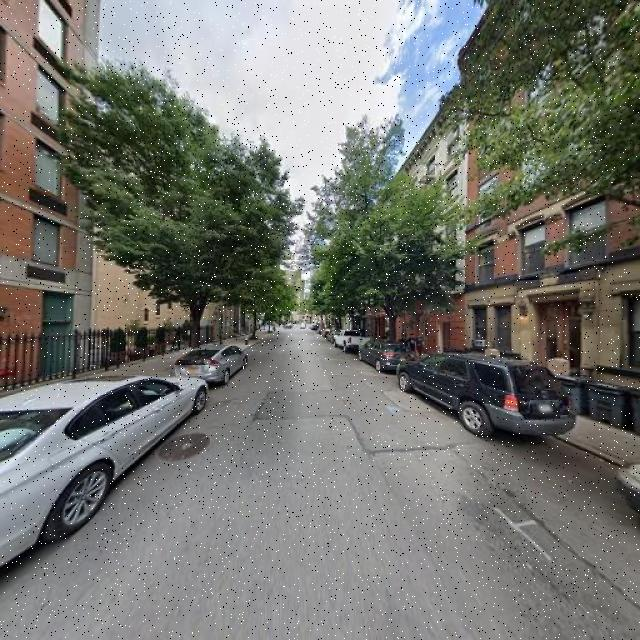Building: (467, 1, 640, 395), (1, 1, 82, 379)
